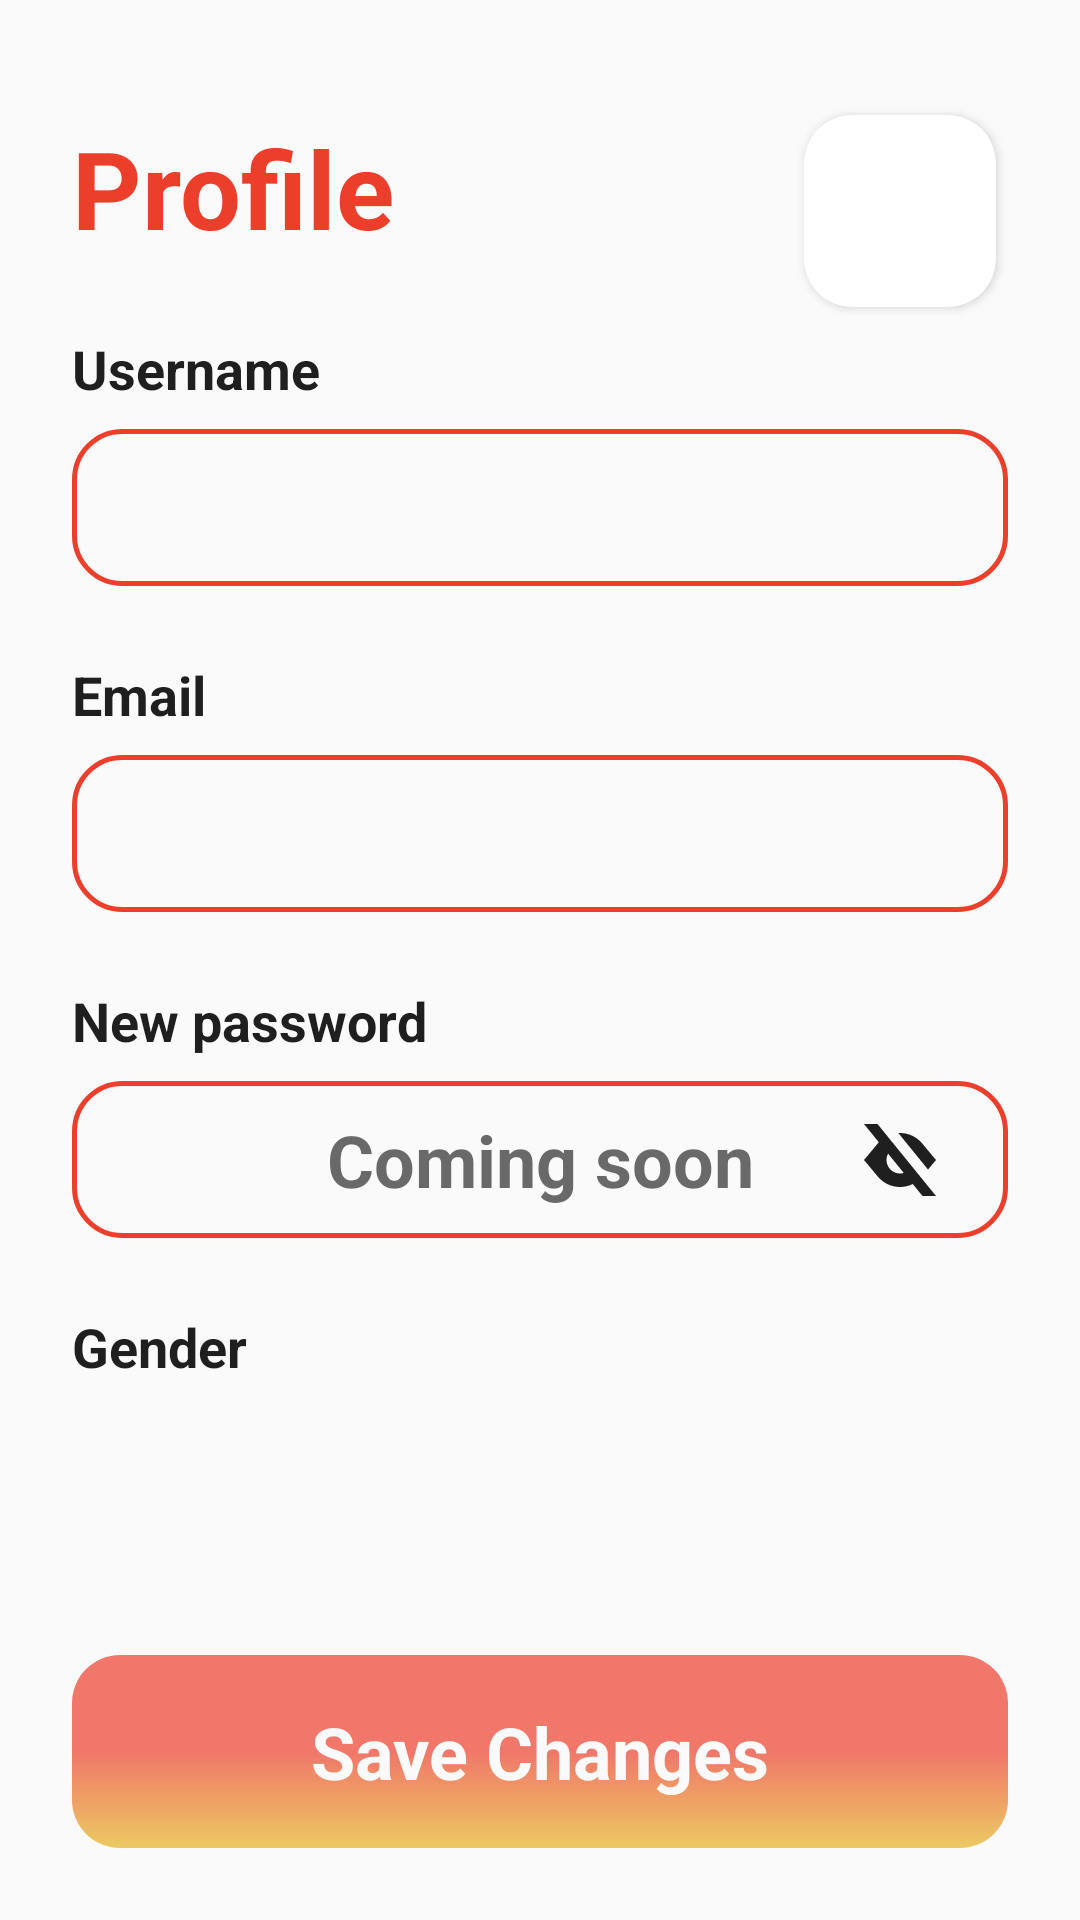

Icon click points for this 1080w x 1920h phone screenshot, format (x=x, y=y):
eye close: (x=900, y=1160)
